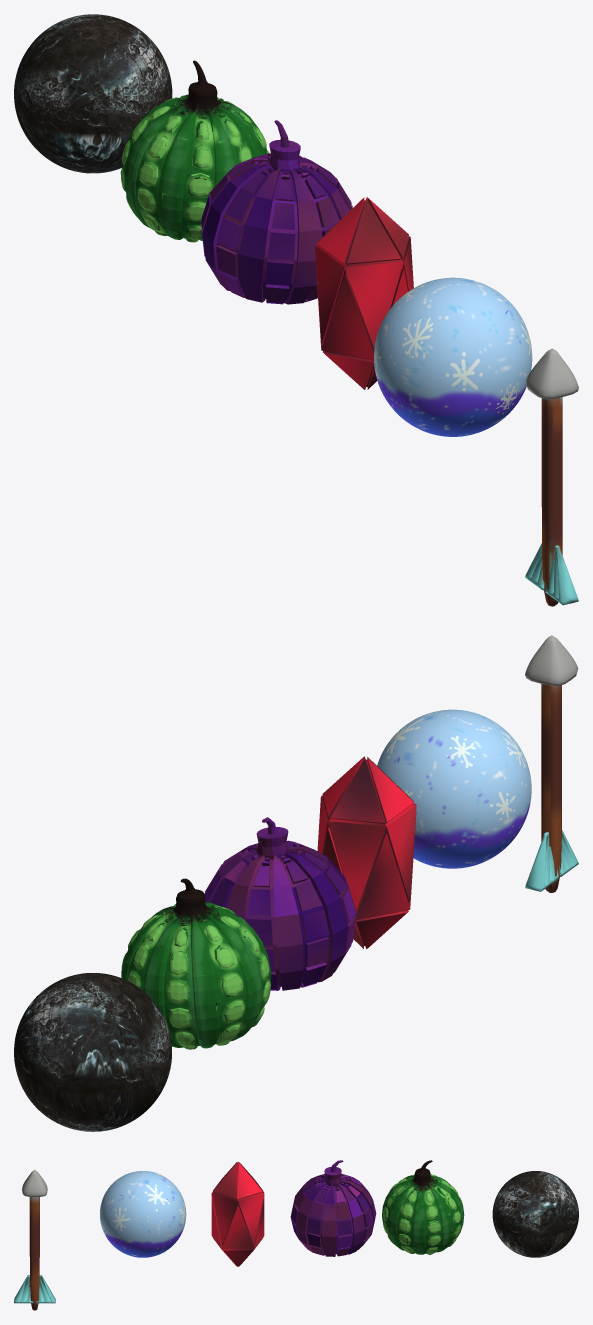
Rendered from bombs.fbx.
The picture shows the model from 3 angles, top to bottom: view 1: azimuth 30°, elevation 25°; view 2: azimuth 150°, elevation 25°; view 3: azimuth 270°, elevation 25°; orthographic projection. The views are drawn at different scales.
Visible parts, largest first — view 1: Sphere.002, Sphere.003, Sphere, Sphere.001, Icosphere, Cube; view 2: Sphere.003, Sphere.002, Sphere.001, Sphere, Icosphere, Cube; view 3: Sphere.003, Sphere.002, Sphere, Sphere.001, Icosphere, Cube.
Boxes of the visible parts, x1,y1,x2,y2 form: Sphere.002: (374, 277, 532, 436); Sphere.003: (14, 14, 172, 173); Sphere: (201, 120, 352, 304); Sphere.001: (120, 60, 269, 242); Icosphere: (315, 197, 413, 389); Cube: (525, 348, 578, 606); Sphere.003: (14, 973, 171, 1131); Sphere.002: (377, 709, 531, 868); Sphere.001: (121, 878, 271, 1049); Sphere: (204, 817, 356, 990); Icosphere: (317, 756, 416, 949); Cube: (525, 635, 578, 892); Sphere.003: (492, 1171, 578, 1257); Sphere.002: (100, 1171, 186, 1257); Sphere: (290, 1160, 376, 1256); Sphere.001: (382, 1160, 464, 1254); Icosphere: (211, 1162, 264, 1266); Cube: (14, 1170, 55, 1310).
Bounding box in the file's own units: 105 × 203 × 684.
